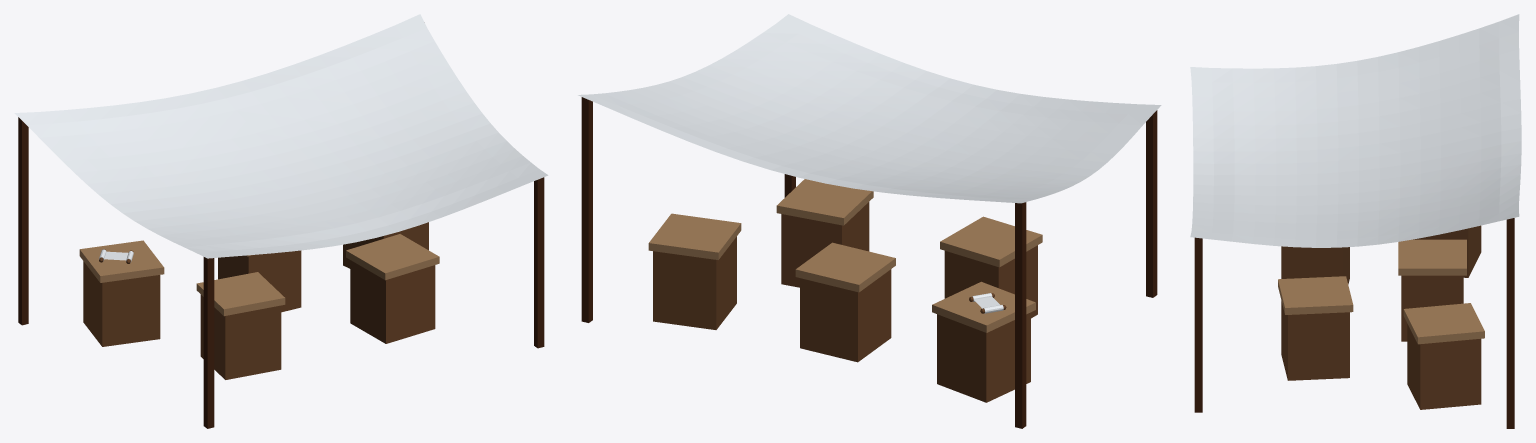
File: Philosophieschule 1.fbx
3 renders of one model, left to right at view 1: azimuth 30°, elevation 25°; view 2: azimuth 150°, elevation 25°; view 3: azimuth 270°, elevation 25°, orthographic. The views are drawn at different scales.
Parts seen in each view (by area): view 1: Plane, Sitz4, Sitz3, Sitz5, Stangen, Sitz2, Sitz1; view 2: Plane, Sitz2, Sitz1, Sitz3, Stangen, Sitz4, Sitz5; view 3: Plane, Sitz1, Sitz4, Sitz2, Stangen, Sitz5, Sitz3.
Part boxes in pixels (bbox=[...]): Plane: bbox=[14, 14, 548, 258]; Sitz4: bbox=[346, 234, 439, 343]; Sitz3: bbox=[79, 240, 164, 346]; Sitz5: bbox=[196, 272, 285, 379]; Stangen: bbox=[18, 117, 544, 428]; Sitz2: bbox=[218, 250, 301, 312]; Sitz1: bbox=[343, 222, 428, 268]; Plane: bbox=[578, 14, 1161, 203]; Sitz2: bbox=[795, 242, 895, 362]; Sitz1: bbox=[648, 213, 741, 329]; Sitz3: bbox=[932, 281, 1035, 402]; Stangen: bbox=[581, 97, 1157, 428]; Sitz4: bbox=[776, 179, 873, 287]; Sitz5: bbox=[940, 216, 1042, 318]; Plane: bbox=[1190, 14, 1521, 247]; Sitz1: bbox=[1403, 303, 1484, 409]; Sitz4: bbox=[1278, 276, 1353, 380]; Sitz2: bbox=[1398, 239, 1466, 341]; Stangen: bbox=[1194, 218, 1514, 428]; Sitz5: bbox=[1281, 246, 1349, 284]; Sitz3: bbox=[1413, 225, 1481, 277].
Size of the model in its own units: 1230 by 603 by 850.
